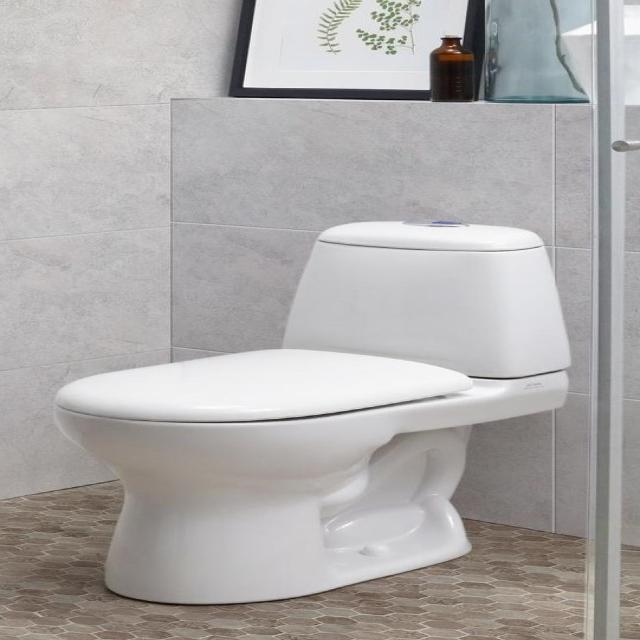toilet: (52, 218, 571, 604)
